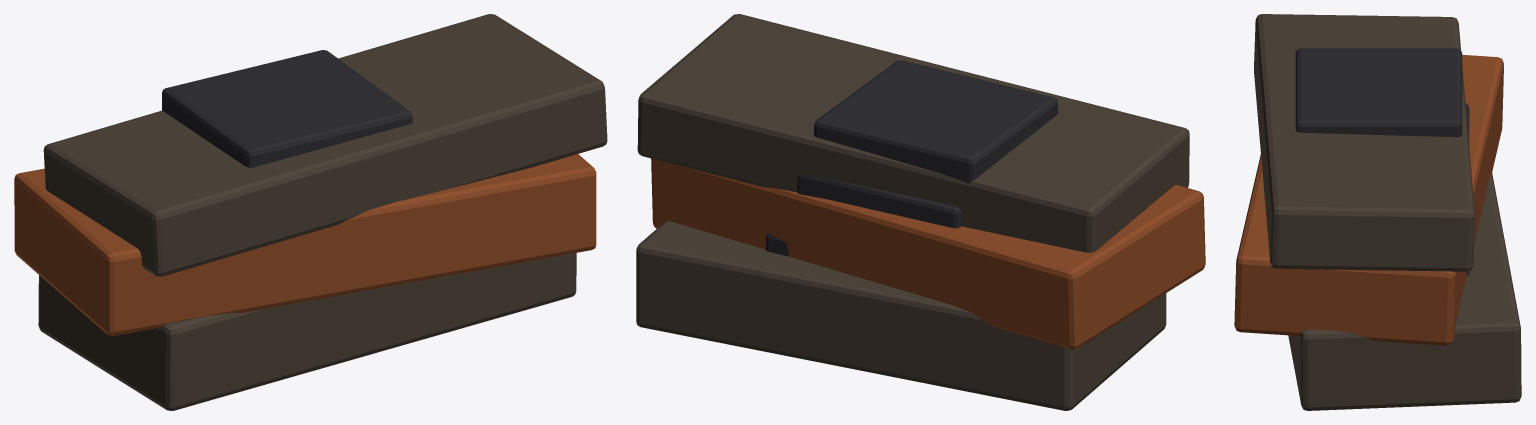
Rendered from car_stack_0.glb.
The picture shows the model from 3 angles, left to right: view 1: azimuth 30°, elevation 25°; view 2: azimuth 150°, elevation 25°; view 3: azimuth 270°, elevation 25°; orthographic projection. The views are drawn at different scales.
Parts seen in each view (by area): view 1: car_stack; view 2: car_stack; view 3: car_stack.
Part boxes in pixels (x1,y1,x2,y2): car_stack: (14, 14, 607, 410); car_stack: (636, 14, 1205, 410); car_stack: (1234, 14, 1521, 410).
Bounding box in the file's own units: 4.13 × 1.83 × 2.22.
